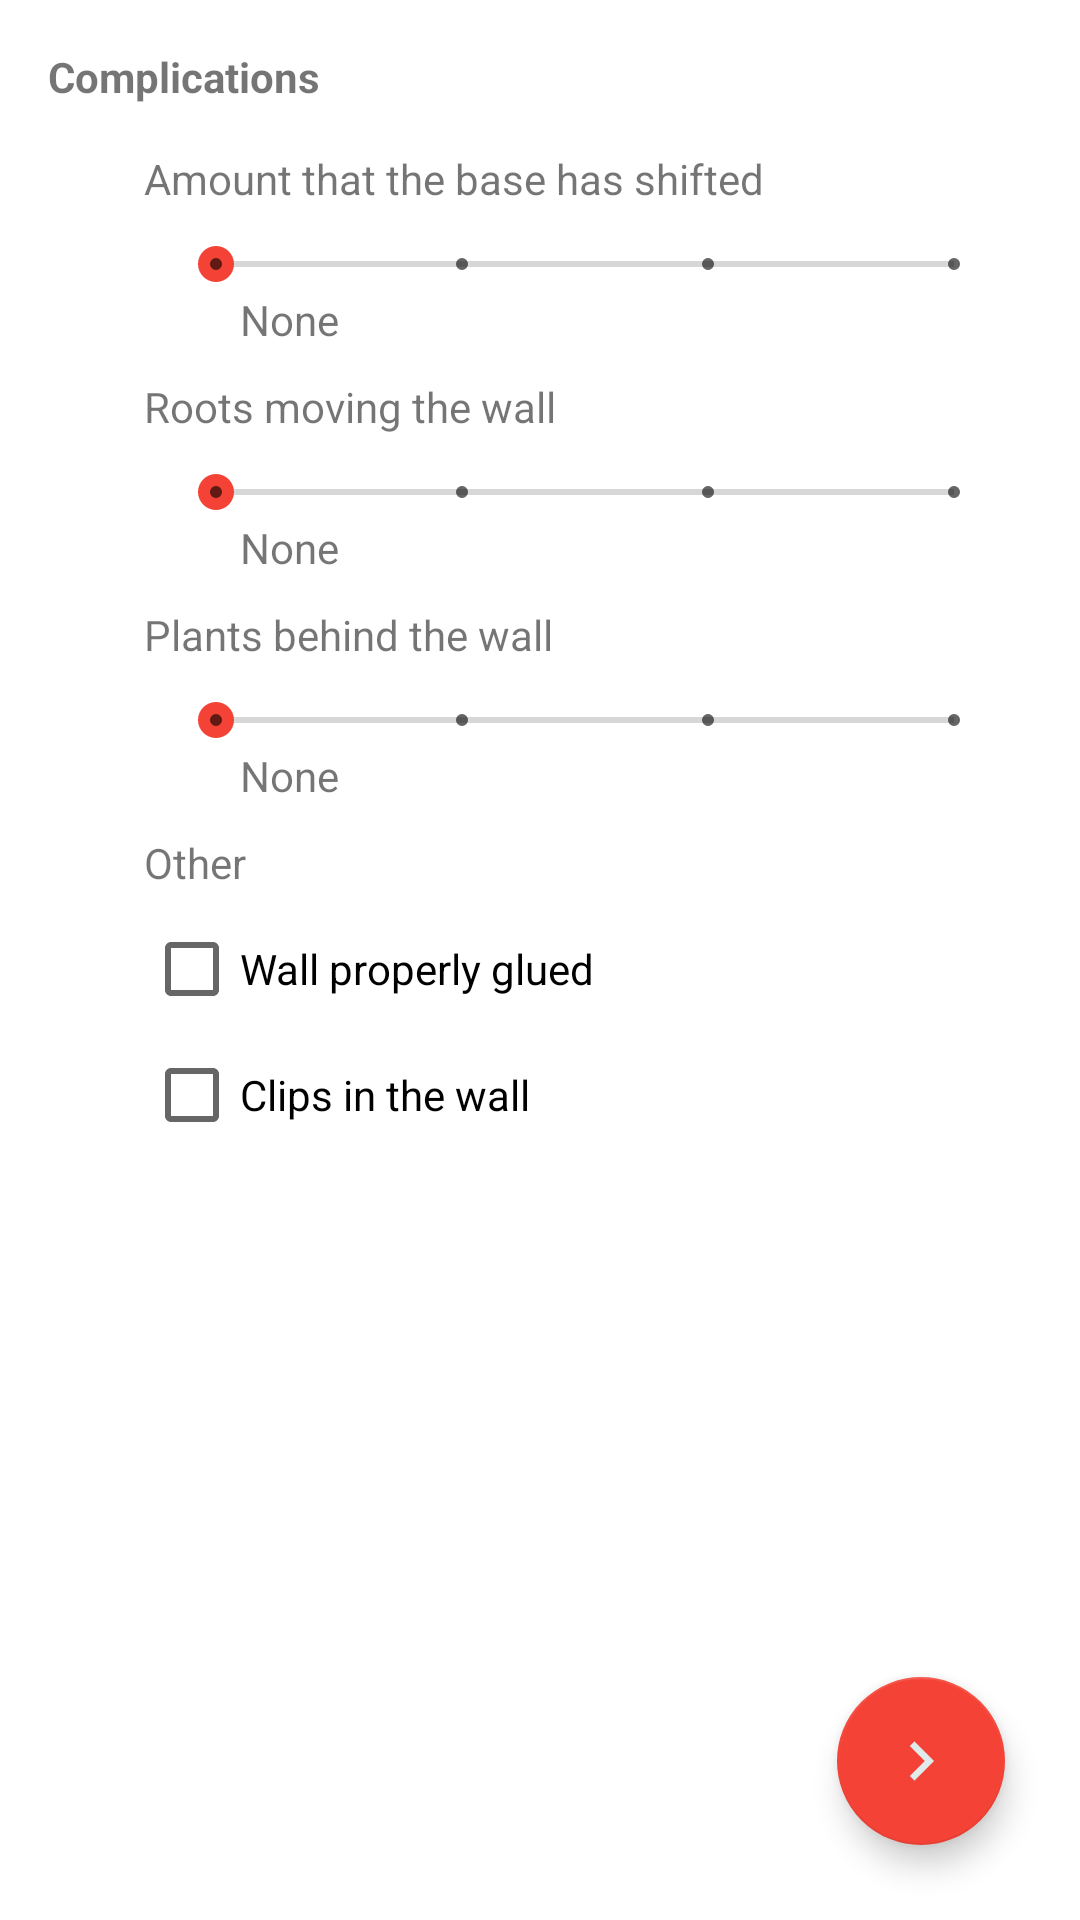

Point at icon controls on the screen. Image size 1080px×1920px, points as (x,y).
right arrow: (921,1761)
